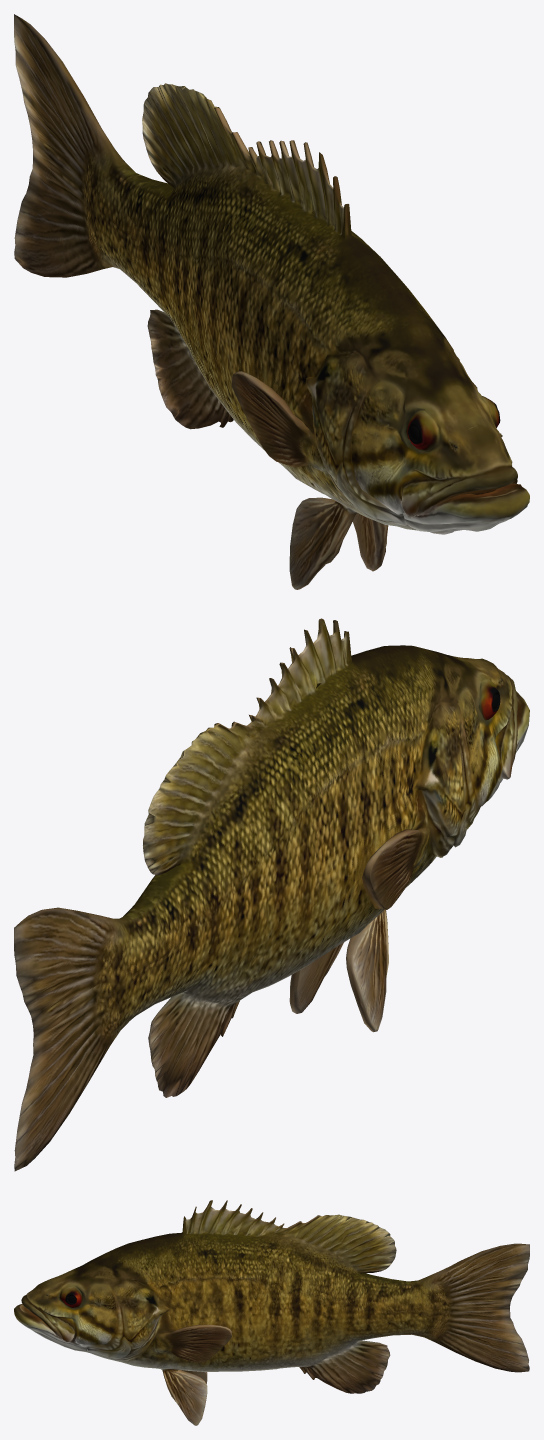
File: fish-smallmouth.glb
The picture shows the model from 3 angles, top to bottom: view 1: azimuth 30°, elevation 25°; view 2: azimuth 150°, elevation 25°; view 3: azimuth 270°, elevation 25°; orthographic projection. The views are drawn at different scales.
Parts seen in each view (by area): view 1: geometry_0; view 2: geometry_0; view 3: geometry_0.
Boxes of the visible parts, x1,y1,x2,y2 form: geometry_0: [14, 14, 529, 589]; geometry_0: [14, 618, 529, 1171]; geometry_0: [14, 1200, 529, 1425].
Size of the model in its own units: 0.1577 by 0.4399 by 0.9536.
Materials: 1 (1 with a texture image).
